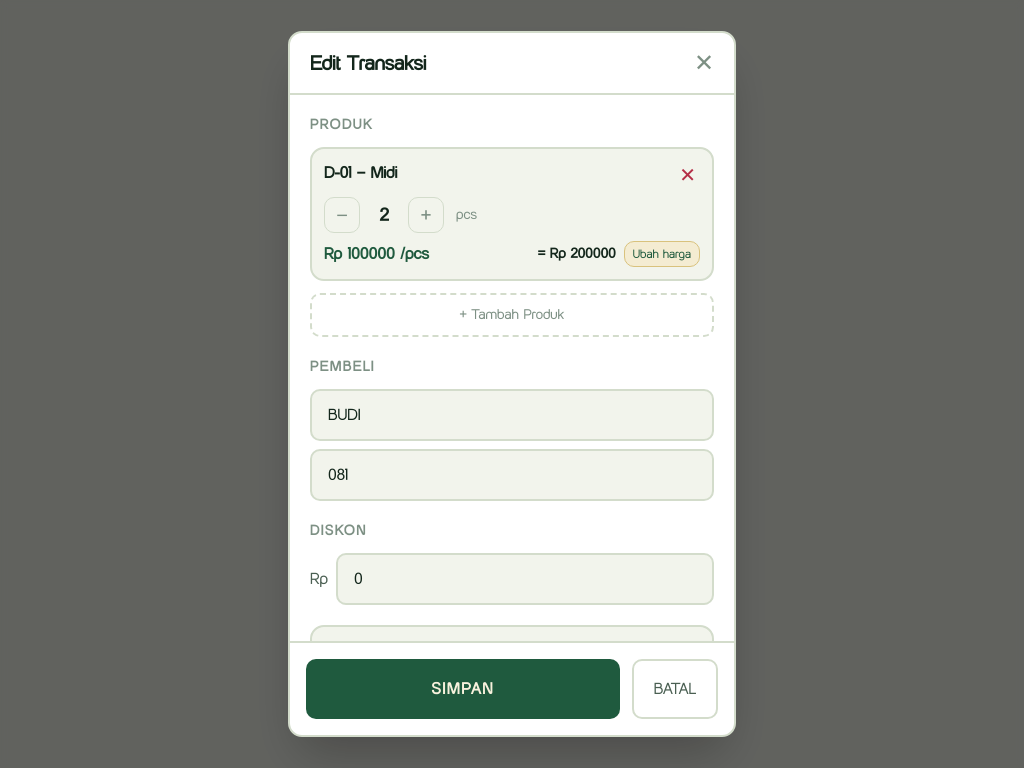
it: EditSaleModal › increments simple item qty with + button
The width and height of the screenshot is (1024, 768).
Expected: the text "2" is shown, [379,204,389,226]
Click the button "+" at (426, 215), box [408,197,444,233]
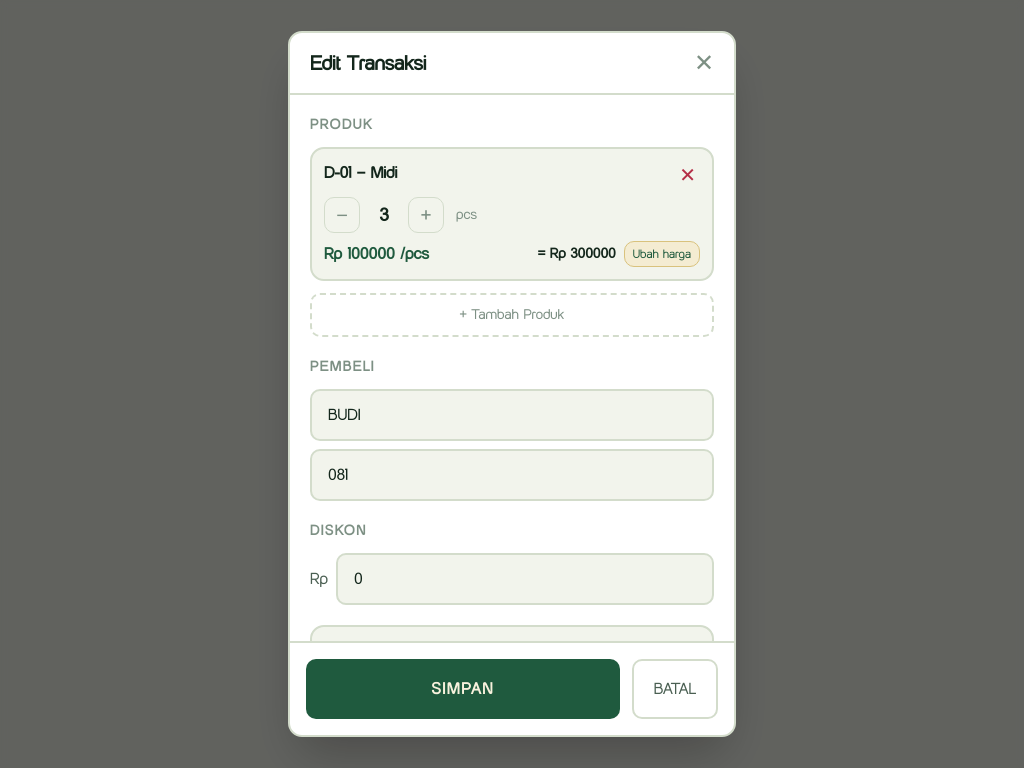
Result: the text "3" is shown at [379,204,389,226]
